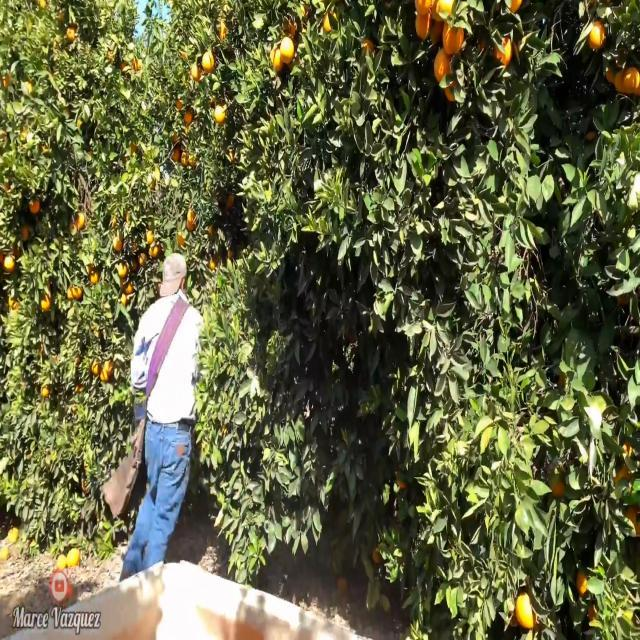Jeruk Sudah Matang: (514, 594, 539, 634), (490, 34, 514, 74), (444, 21, 464, 58), (586, 18, 606, 52), (432, 49, 453, 81), (414, 9, 434, 42), (279, 34, 297, 68), (622, 62, 640, 96), (183, 211, 200, 234), (576, 572, 592, 596), (201, 49, 214, 73), (68, 286, 85, 304), (26, 197, 42, 216), (214, 104, 227, 125), (100, 359, 116, 376), (168, 148, 182, 167), (41, 293, 51, 316), (112, 232, 121, 257), (2, 254, 16, 270), (76, 211, 87, 231), (89, 268, 98, 292), (66, 27, 78, 40), (182, 110, 193, 124), (93, 356, 96, 376)
